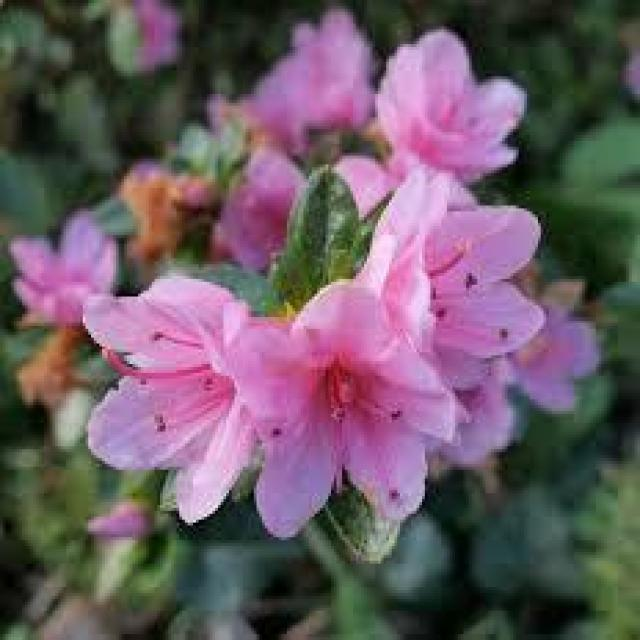organic waste: (192, 279, 456, 555), (63, 252, 290, 520), (342, 174, 563, 390), (359, 26, 527, 185)
